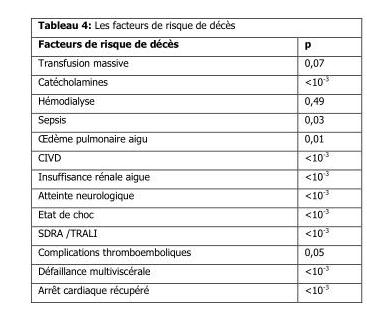table: (37, 36, 327, 295)
table column: (37, 36, 246, 295), (246, 36, 327, 295)
table column header: (37, 36, 327, 52)
table row: (37, 70, 327, 90), (37, 90, 327, 109), (37, 109, 327, 128), (37, 146, 327, 165), (37, 165, 327, 184), (37, 184, 327, 203), (37, 203, 327, 222), (37, 222, 327, 241), (37, 241, 327, 260), (37, 260, 327, 279), (37, 52, 327, 70), (37, 128, 327, 146), (37, 36, 327, 52), (37, 279, 327, 295)
